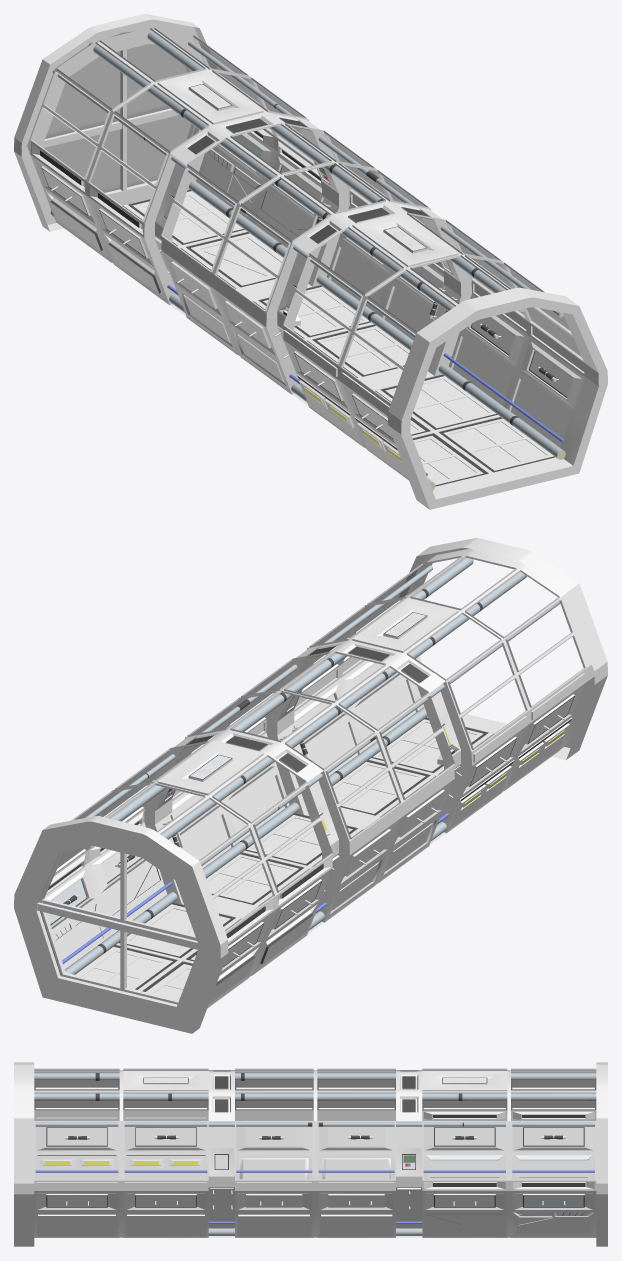
Rendered from SpaceStation_3.glb.
3 views of the same model, one above another, from view 1: azimuth 30°, elevation 25°; view 2: azimuth 150°, elevation 25°; view 3: azimuth 270°, elevation 25° (orthographic). The views are drawn at different scales.
Visible parts, largest first — view 1: Corridor; view 2: Corridor; view 3: Corridor.
Boxes of the visible parts, bbox=[...] form: Corridor: bbox=[14, 14, 607, 509]; Corridor: bbox=[14, 538, 607, 1033]; Corridor: bbox=[14, 1062, 607, 1246].
Size of the model in its own units: 1.95 by 1.7 by 6.34.
